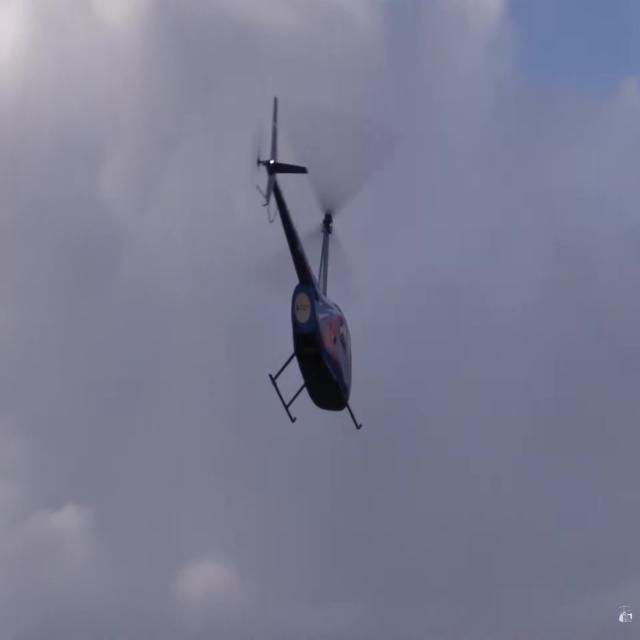CIV_HELO: (253, 88, 363, 432)
